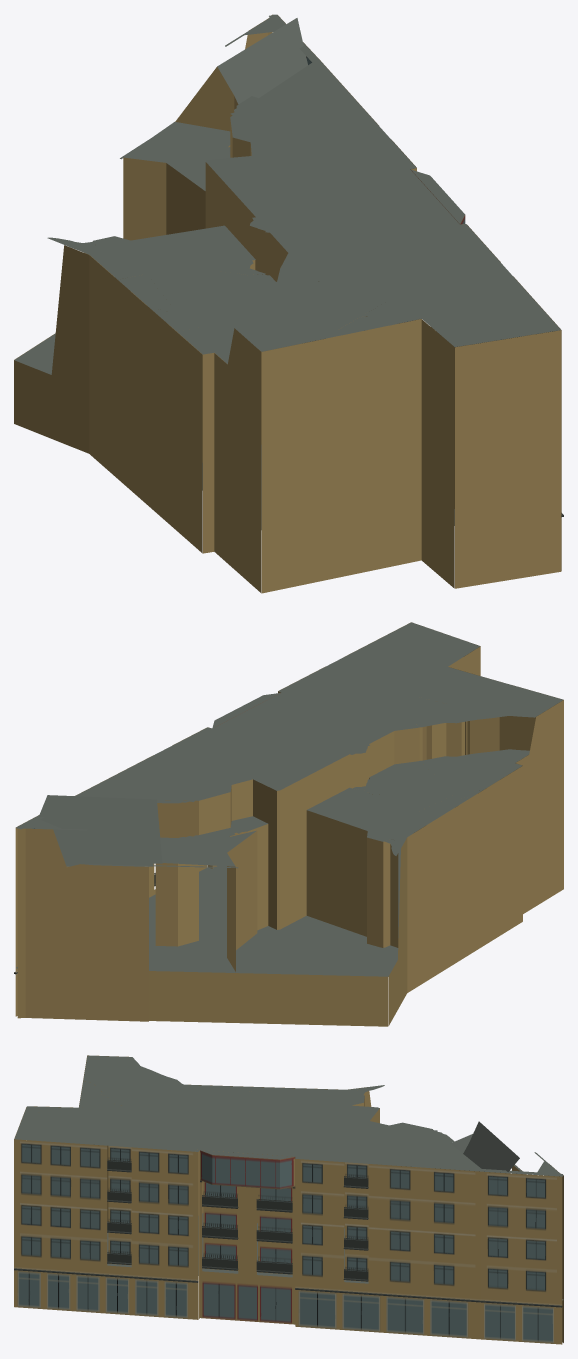
3 views of the same model, one above another, from view 1: azimuth 30°, elevation 25°; view 2: azimuth 150°, elevation 25°; view 3: azimuth 270°, elevation 25° (orthographic). The views are drawn at different scales.
Visible parts, largest first — view 1: 0363100012175754; view 2: 0363100012175754; view 3: 0363100012175754.
Boxes of the visible parts, x1=… form: 0363100012175754: x1=14, y1=14, x2=563, y2=593; 0363100012175754: x1=14, y1=622, x2=563, y2=1026; 0363100012175754: x1=14, y1=1055, x2=563, y2=1344.
Size of the model in its own units: 23.62 by 15.99 by 43.57.
Materials: 3 (1 with a texture image).
